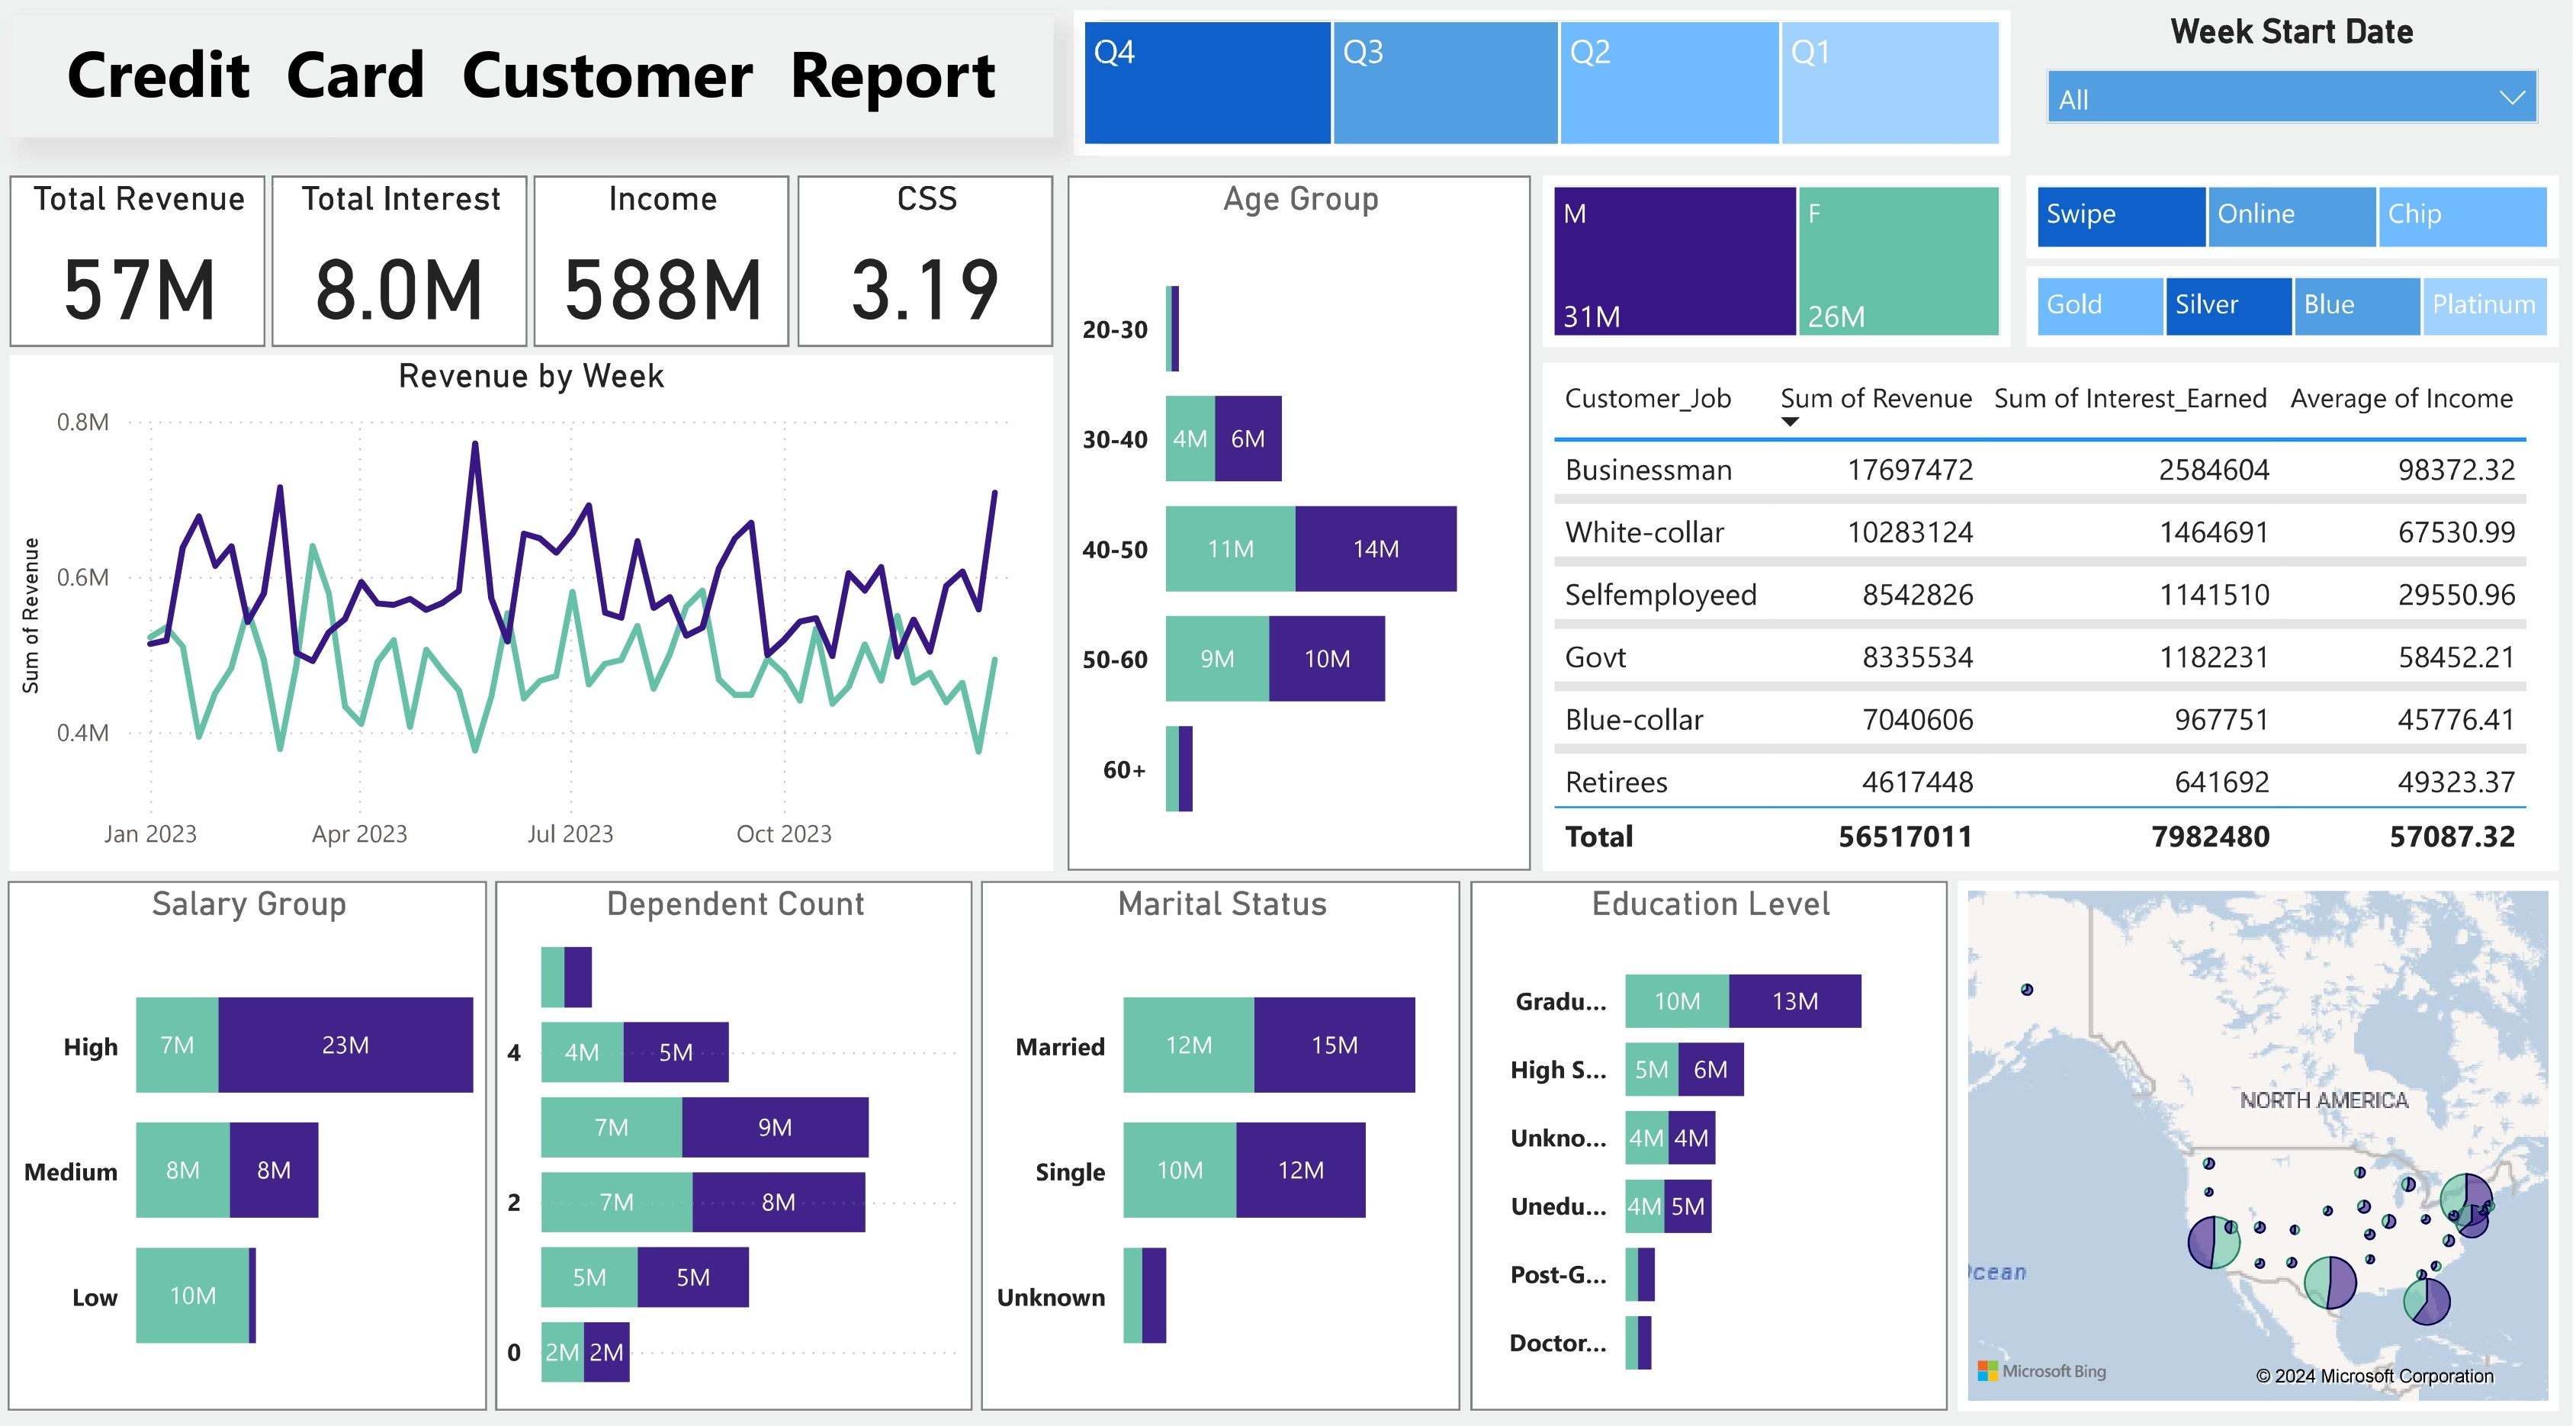

The page's visual inventory and layout, read from the dashboard file:
{"tool":"powerbi","page":{"name":"Credit Card - Customer","canvas":[1280,720],"ordinal":1},"visuals":[{"type":"barChart","title":"Salary Group","fields":{"Y":["Sum(ccdb cc_detail.Revenue)"],"Category":["ccdb cust_detail.IncomeGroup"],"Series":["ccdb cust_detail.Gender"]},"box":[7.3,445,237.5,262.5],"z":0},{"type":"tableEx","fields":{"Values":["ccdb cust_detail.Customer_Job","Sum(ccdb cc_detail.Revenue)","Sum(ccdb cc_detail.Interest_Earned)","Avg(ccdb cust_detail.Income)"]},"box":[768.8,187.5,503.8,252.5],"z":1000},{"type":"card","title":"Total Revenue","fields":{"Values":["Sum(ccdb cc_detail.Revenue)"]},"box":[7.5,95,127,85],"z":2000},{"type":"card","title":"Income","fields":{"Values":["Sum(ccdb cust_detail.Income)"]},"box":[267.5,95,127.5,85],"z":3000},{"type":"card","title":"Total Interest","fields":{"Values":["Sum(ccdb cc_detail.Interest_Earned)"]},"box":[137.5,95,127.5,85],"z":4000},{"type":"card","title":"CSS","fields":{"Values":["Avg(ccdb cust_detail.Cust_Satisfaction_Score)"]},"box":[398.8,95,127.5,85],"z":5000},{"type":"slicer","title":"Week Start Date","fields":{"Values":["ccdb cc_detail.Week_Start_Date"]},"box":[1008.8,12.5,263.8,72.5],"z":6000},{"type":"treemap","fields":{"Group":["ccdb cc_detail.Qtr"],"Values":["Avg(ccdb cc_detail.Client_Num)"]},"box":[536.2,12.5,465,72.5],"z":7000},{"type":"treemap","fields":{"Values":["Avg(ccdb cc_detail.Client_Num)"],"Group":["ccdb cc_detail.Card_Category"]},"box":[1008.8,140,263.8,40],"z":8000},{"type":"textbox","box":[7.5,16.2,518.8,60],"z":9000},{"type":"lineChart","title":"Revenue by Week","fields":{"Y":["Sum(ccdb cc_detail.Revenue)"],"Series":["ccdb cust_detail.Gender"],"Category":["ccdb cc_detail.Week_Start_Date.Variation.Date Hierarchy.Year","ccdb cc_detail.Week_Start_Date.Variation.Date Hierarchy.Month","ccdb cc_detail.Week_Start_Date.Variation.Date Hierarchy.Day"]},"box":[7.5,183.8,518.8,256.2],"z":10000},{"type":"treemap","fields":{"Group":["ccdb cust_detail.Gender"],"Values":["Sum(ccdb cc_detail.Revenue)"]},"box":[768.8,95,232.5,85],"z":11000},{"type":"barChart","title":"Age Group","fields":{"Y":["Sum(ccdb cc_detail.Revenue)"],"Category":["ccdb cust_detail.AgeGroup"],"Series":["ccdb cust_detail.Gender"]},"box":[532.5,95,230,345],"z":12000},{"type":"barChart","title":"Dependent Count","fields":{"Y":["Sum(ccdb cc_detail.Revenue)"],"Category":["ccdb cust_detail.Dependent_Count"],"Series":["ccdb cust_detail.Gender"]},"box":[248.8,445,237.5,262.5],"z":13000},{"type":"barChart","title":"Education Level","fields":{"Y":["Sum(ccdb cc_detail.Revenue)"],"Category":["ccdb cust_detail.Education_Level"],"Series":["ccdb cust_detail.Gender"]},"box":[732.5,445,237.5,262.5],"z":14000},{"type":"map","fields":{"Category":["ccdb cust_detail.state_cd"],"Size":["Sum(ccdb cc_detail.Revenue)"],"Series":["ccdb cust_detail.Gender"]},"box":[975,445,297.5,262.5],"z":15000},{"type":"barChart","title":"Marital Status","fields":{"Y":["Sum(ccdb cc_detail.Revenue)"],"Category":["ccdb cust_detail.Marital_Status"],"Series":["ccdb cust_detail.Gender"]},"box":[490,445,237.5,262.5],"z":16000},{"type":"treemap","fields":{"Group":["ccdb cc_detail.Use_Chip"],"Values":["Avg(ccdb cc_detail.Client_Num)"]},"box":[1008.8,95,263.8,41.2],"z":17000}]}

Visuals, with their boxes in screenshot pixels (x1, y1, x2, y2), scaled from the page's 1280x720 canvas onto the 2576x1426 screenshot:
"Salary Group" barChart: [14, 882, 493, 1402]
tableEx - ccdb cust_detail.Customer_Job x Sum(ccdb cc_detail.Revenue): [1547, 371, 2561, 872]
"Total Revenue" card: [15, 188, 271, 357]
"Income" card: [538, 188, 795, 357]
"Total Interest" card: [277, 188, 533, 357]
"CSS" card: [802, 188, 1059, 357]
"Week Start Date" slicer: [2030, 24, 2561, 169]
treemap - ccdb cc_detail.Qtr x Avg(ccdb cc_detail.Client_Num): [1079, 24, 2015, 169]
treemap - Avg(ccdb cc_detail.Client_Num) x ccdb cc_detail.Card_Category: [2030, 278, 2561, 357]
textbox: [15, 32, 1059, 151]
"Revenue by Week" lineChart: [15, 364, 1059, 872]
treemap - ccdb cust_detail.Gender x Sum(ccdb cc_detail.Revenue): [1547, 188, 2015, 357]
"Age Group" barChart: [1071, 188, 1534, 872]
"Dependent Count" barChart: [501, 882, 978, 1402]
"Education Level" barChart: [1474, 882, 1952, 1402]
map - ccdb cust_detail.state_cd x Sum(ccdb cc_detail.Revenue): [1962, 882, 2561, 1402]
"Marital Status" barChart: [986, 882, 1464, 1402]
treemap - ccdb cc_detail.Use_Chip x Avg(ccdb cc_detail.Client_Num): [2030, 188, 2561, 270]
